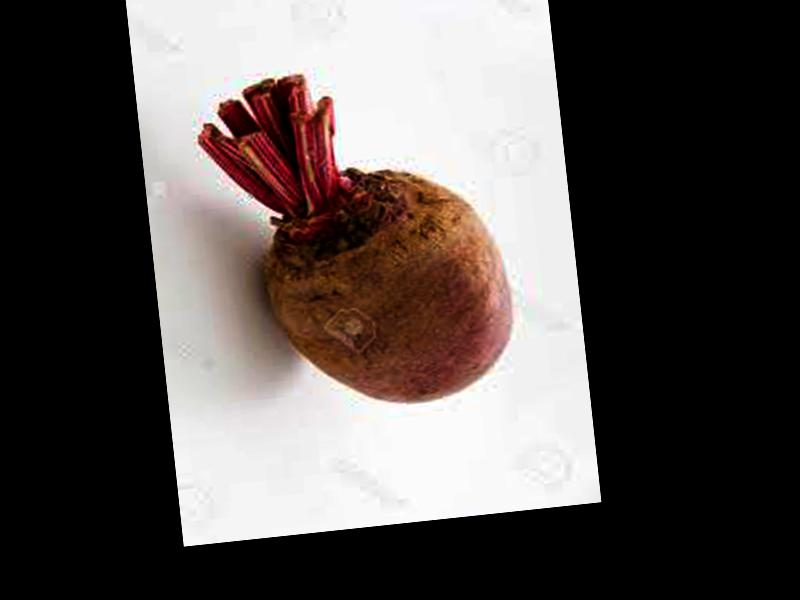Beet: (189, 55, 522, 424)
